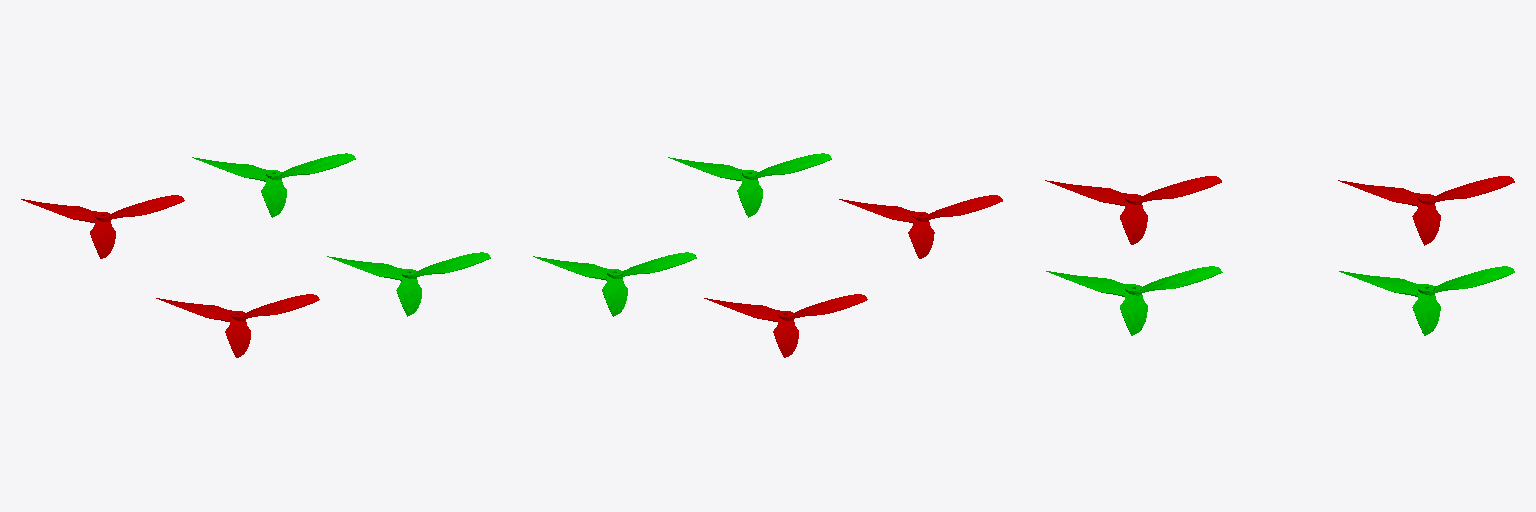
The robot description file, URDF, robot "starling2max_tether":
<?xml version="1.0" ?>
<!-- GENERATED by starling2max/generate.py from config/. Edit the template instead. -->
<robot name="starling2max_tether">

    <properties kf="3.92931e-08" km="5.89396e-10"/>

    <material name="grey">
        <color rgba="0.1 0.1 0.1 1"/>
    </material>
    <material name="red">
        <color rgba="0.8 0 0 1"/>
    </material>
    <material name="green">
        <color rgba="0 0.8 0 1"/>
    </material>

    <link name="base_link">
        <inertial>
            <origin xyz="0 0 0" rpy="0 0 0"/>
            <mass value="0.534"/>
            <inertia ixx="0.00440594" ixy="0" ixz="0" iyy="0.00283598" iyz="0" izz="0.00576088"/>
        </inertial>
        <visual>
            <origin xyz="0 0 0" rpy="0 0 0"/>
            <geometry>
                <mesh filename="../starling2max_base/meshes/Starling2Max_body.obj" scale="0.001 0.001 0.001"/>
            </geometry>
            <material name="grey"/>
        </visual>
        <collision>
            <origin xyz="0 0 0" rpy="0 0 0"/>
            <geometry>
                <box size="0.217 0.287 0.129"/>
            </geometry>
        </collision>
    </link>

    <!-- prop0: front_left, cw -->
    <link name="prop0_link">
        <inertial>
            <origin xyz="0 0 0" rpy="0 0 0"/>
            <mass value="0.008"/>
            <inertia ixx="2.16e-05" ixy="0" ixz="0" iyy="2.16e-05" iyz="0" izz="2.16e-05"/>
        </inertial>
        <visual>
            <origin xyz="0 0 0" rpy="0 0 0"/>
            <geometry>
                <mesh filename="../starling2max_base/meshes/Starling2Max_7040prop.obj" scale="0.001 0.001 0.001"/>
            </geometry>
            <material name="green"/>
        </visual>
    </link>
    <joint name="prop0_joint" type="fixed">
        <origin xyz="0.095 0.13 0.024" rpy="0 0 0"/>
        <parent link="base_link"/>
        <child link="prop0_link"/>
    </joint>
    <!-- prop1: front_right, ccw -->
    <link name="prop1_link">
        <inertial>
            <origin xyz="0 0 0" rpy="0 0 0"/>
            <mass value="0.008"/>
            <inertia ixx="2.16e-05" ixy="0" ixz="0" iyy="2.16e-05" iyz="0" izz="2.16e-05"/>
        </inertial>
        <visual>
            <origin xyz="0 0 0" rpy="0 0 0"/>
            <geometry>
                <mesh filename="../starling2max_base/meshes/Starling2Max_7040prop.obj" scale="0.001 0.001 0.001"/>
            </geometry>
            <material name="green"/>
        </visual>
    </link>
    <joint name="prop1_joint" type="fixed">
        <origin xyz="0.095 -0.13 0.024" rpy="0 0 0"/>
        <parent link="base_link"/>
        <child link="prop1_link"/>
    </joint>
    <!-- prop2: rear_right, cw -->
    <link name="prop2_link">
        <inertial>
            <origin xyz="0 0 0" rpy="0 0 0"/>
            <mass value="0.008"/>
            <inertia ixx="2.16e-05" ixy="0" ixz="0" iyy="2.16e-05" iyz="0" izz="2.16e-05"/>
        </inertial>
        <visual>
            <origin xyz="0 0 0" rpy="0 0 0"/>
            <geometry>
                <mesh filename="../starling2max_base/meshes/Starling2Max_7040prop.obj" scale="0.001 0.001 0.001"/>
            </geometry>
            <material name="red"/>
        </visual>
    </link>
    <joint name="prop2_joint" type="fixed">
        <origin xyz="-0.095 -0.13 0.024" rpy="0 0 0"/>
        <parent link="base_link"/>
        <child link="prop2_link"/>
    </joint>
    <!-- prop3: rear_left, ccw -->
    <link name="prop3_link">
        <inertial>
            <origin xyz="0 0 0" rpy="0 0 0"/>
            <mass value="0.008"/>
            <inertia ixx="2.16e-05" ixy="0" ixz="0" iyy="2.16e-05" iyz="0" izz="2.16e-05"/>
        </inertial>
        <visual>
            <origin xyz="0 0 0" rpy="0 0 0"/>
            <geometry>
                <mesh filename="../starling2max_base/meshes/Starling2Max_7040prop.obj" scale="0.001 0.001 0.001"/>
            </geometry>
            <material name="red"/>
        </visual>
    </link>
    <joint name="prop3_joint" type="fixed">
        <origin xyz="-0.095 0.13 0.024" rpy="0 0 0"/>
        <parent link="base_link"/>
        <child link="prop3_link"/>
    </joint>

    <link name="attach0_link"/>
    <joint name="attach0_joint" type="fixed">
        <origin xyz="0.0289 0 -0.02" rpy="0 0 0"/>
        <parent link="base_link"/>
        <child link="attach0_link"/>
    </joint>
    <link name="attach1_link"/>
    <joint name="attach1_joint" type="fixed">
        <origin xyz="-0.01445 0.0250281 -0.02" rpy="0 0 0"/>
        <parent link="base_link"/>
        <child link="attach1_link"/>
    </joint>
    <link name="attach2_link"/>
    <joint name="attach2_joint" type="fixed">
        <origin xyz="-0.01445 -0.0250281 -0.02" rpy="0 0 0"/>
        <parent link="base_link"/>
        <child link="attach2_link"/>
    </joint>

</robot>

--- Facts derived from the render (not from the file) ---
The picture shows the robot from 3 angles, left to right: view 1: azimuth 30°, elevation 25°; view 2: azimuth 150°, elevation 25°; view 3: azimuth 270°, elevation 25°; orthographic projection.
Model starling2max_tether with 8 links and 7 joints (7 fixed), rooted at base_link, posed all joints at 0.
Links seen in each view (by area): view 1: prop3_link, prop2_link, prop1_link, prop0_link; view 2: prop0_link, prop1_link, prop2_link, prop3_link; view 3: prop2_link, prop1_link, prop0_link, prop3_link.
Boxes of the visible links, <box> form: prop3_link: <box>21,195,184,258</box>; prop2_link: <box>156,294,319,357</box>; prop1_link: <box>327,252,490,316</box>; prop0_link: <box>192,153,355,217</box>; prop0_link: <box>533,252,696,316</box>; prop1_link: <box>668,153,831,217</box>; prop2_link: <box>839,195,1002,258</box>; prop3_link: <box>704,294,867,357</box>; prop2_link: <box>1045,176,1221,244</box>; prop1_link: <box>1046,266,1222,335</box>; prop0_link: <box>1339,266,1514,335</box>; prop3_link: <box>1338,176,1514,245</box>.
Size in the robot's own frame: 0.3285 by 0.4183 by 0.0084 metres.
Meshes: 2 distinct files referenced, 4 mesh visuals loaded (1 OBJ); not drawn: 1 (reference not matched to a file when rendering).
